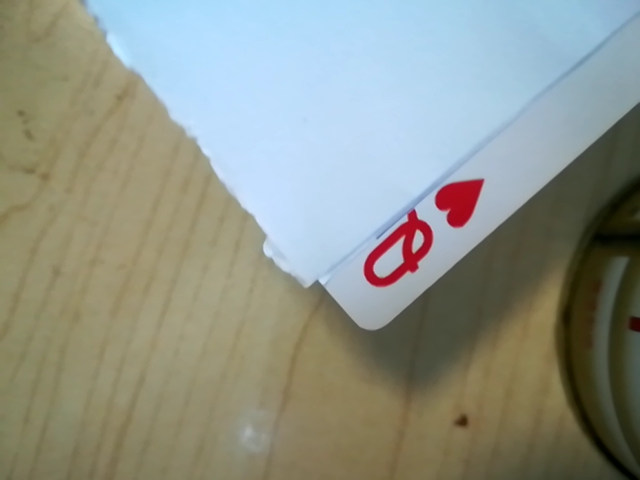hx q: (343, 169, 488, 306)
